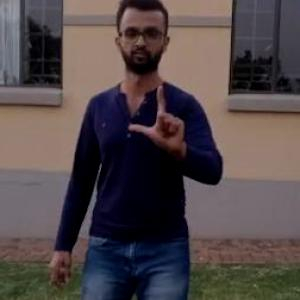land_hand: (121, 76, 198, 164)
